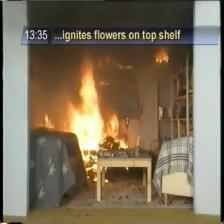fire: (63, 63, 129, 161)
